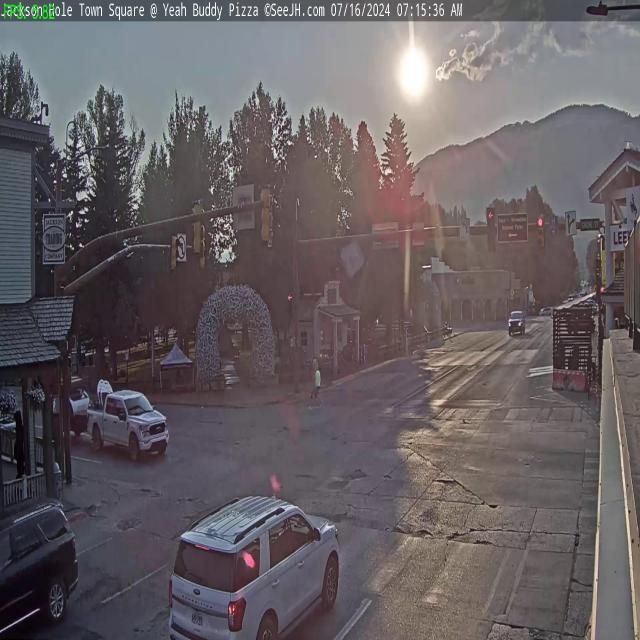person: (312, 360, 321, 406)
pickup: (84, 384, 170, 466)
suv: (170, 488, 341, 640), (0, 499, 80, 636), (508, 309, 526, 335)
traffic light: (190, 199, 204, 256), (260, 184, 273, 244), (486, 208, 496, 252), (170, 232, 178, 272), (536, 216, 544, 250), (200, 238, 208, 268)
